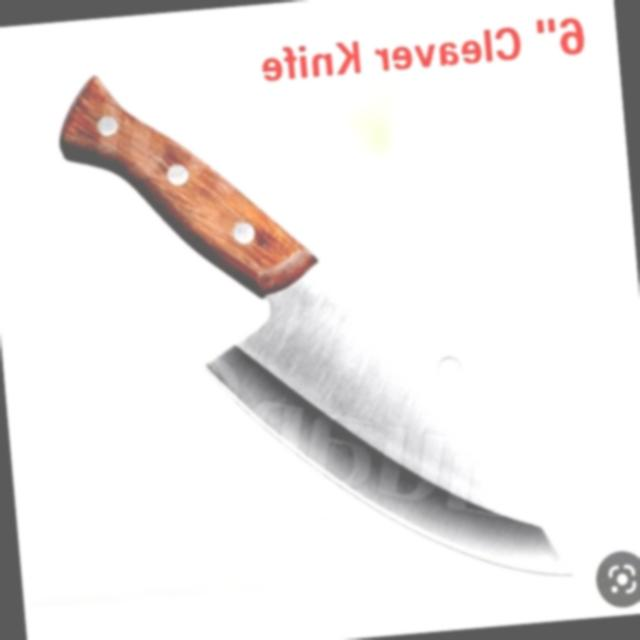knife: (3, 40, 603, 594)
